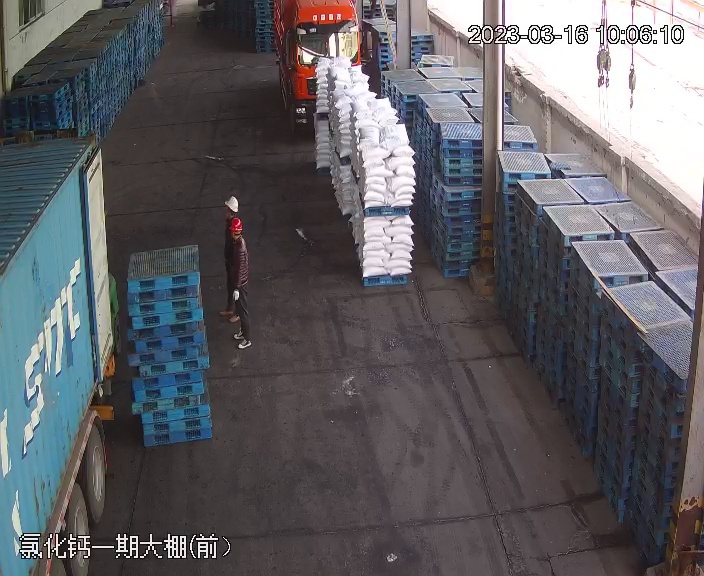head: (224, 214, 247, 252)
helmet: (223, 194, 240, 212), (227, 216, 243, 230)
people: (220, 205, 254, 351)
truck: (2, 125, 120, 576), (264, 1, 370, 121)
